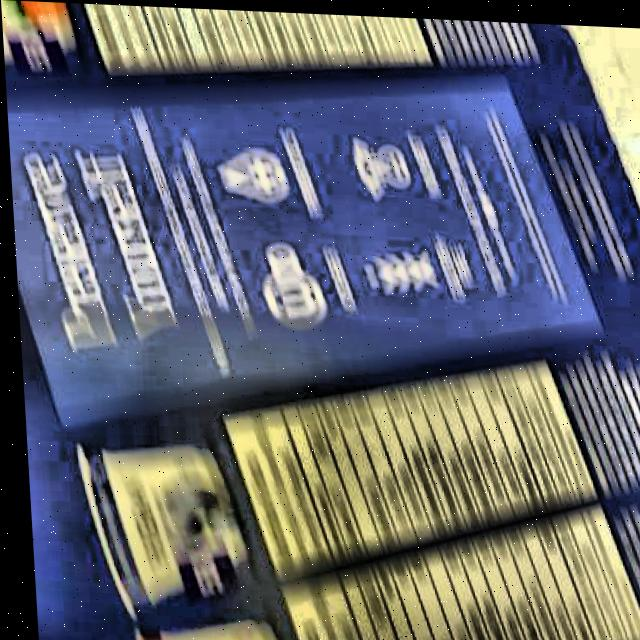cardboard: (2, 0, 640, 640)
